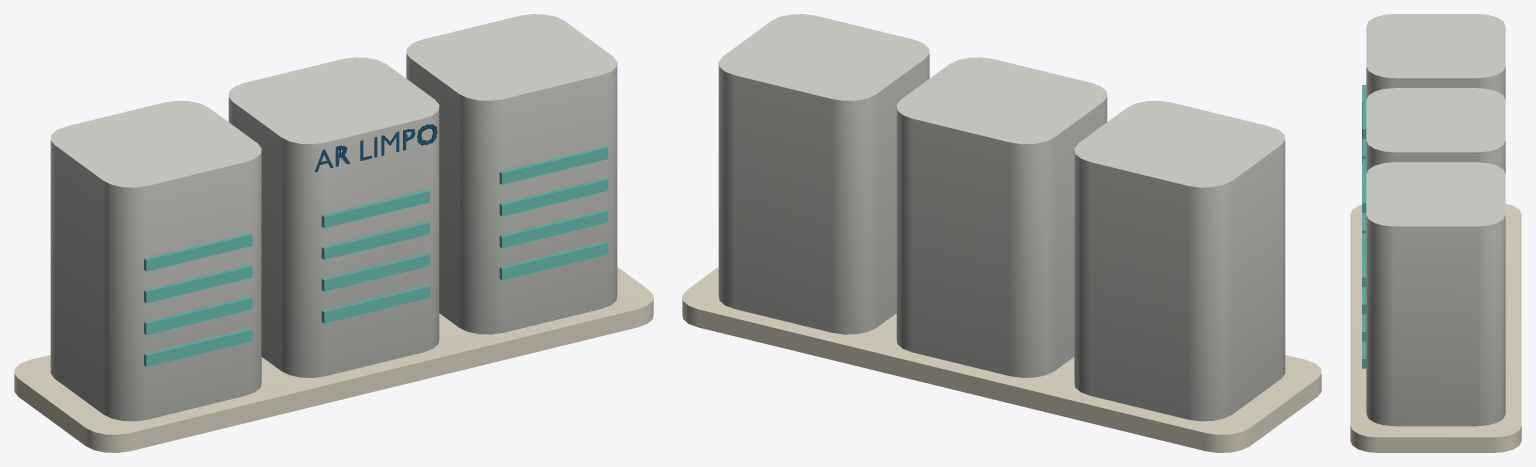
File: air-treatment-low.glb
The picture shows the model from 3 angles, left to right: view 1: azimuth 30°, elevation 25°; view 2: azimuth 150°, elevation 25°; view 3: azimuth 270°, elevation 25°; orthographic projection. The views are drawn at different scales.
Visible parts, largest first — view 1: air filter enclosure, air treatment base, filter intake, identity AR LIMPO; view 2: air filter enclosure, air treatment base; view 3: air filter enclosure, air treatment base, filter intake.
Part boxes in pixels (x1,y1,x2,y2): air filter enclosure: [50, 14, 617, 421]; air treatment base: [14, 267, 653, 452]; filter intake: [144, 146, 608, 366]; identity AR LIMPO: [315, 124, 437, 172]; air filter enclosure: [718, 14, 1285, 421]; air treatment base: [682, 267, 1321, 452]; air filter enclosure: [1366, 14, 1505, 426]; air treatment base: [1350, 204, 1521, 452]; filter intake: [1362, 85, 1366, 368].
Size of the model in its own units: 2.6 by 1.11 by 0.8.
